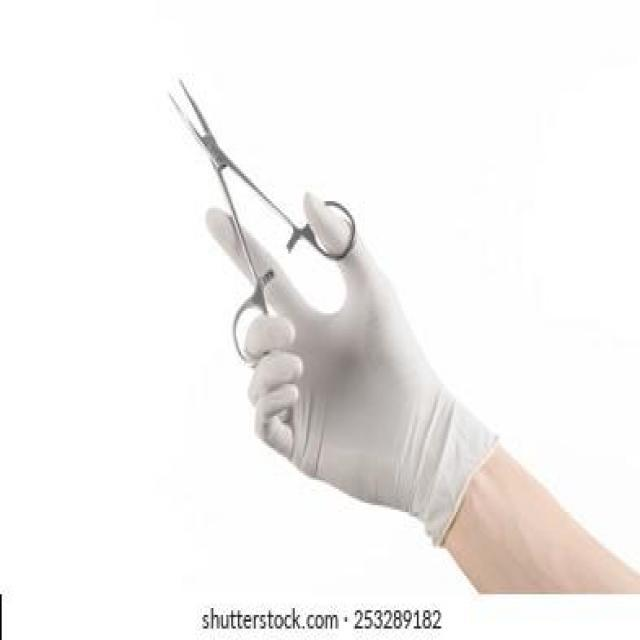scissors: (166, 77, 356, 367)
